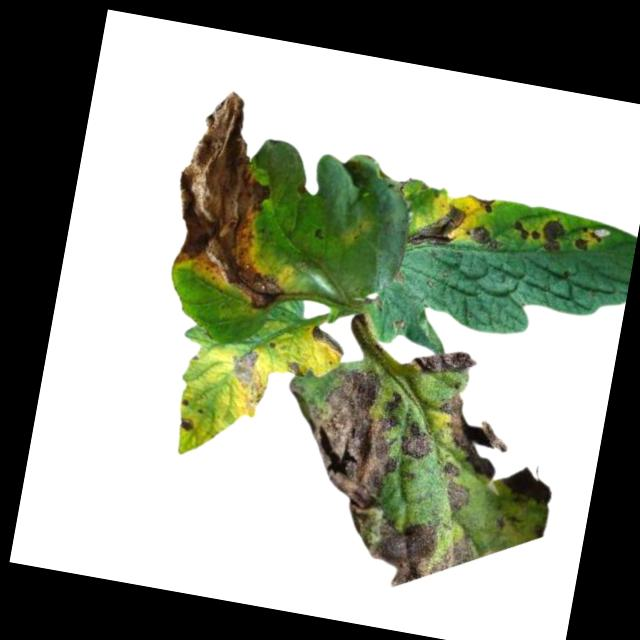Early_blight: (158, 83, 315, 314), (271, 352, 411, 506), (338, 501, 476, 599), (431, 390, 518, 479), (408, 198, 469, 254), (223, 342, 275, 405), (409, 342, 480, 383), (502, 457, 561, 503), (398, 412, 436, 460), (442, 475, 485, 517), (308, 324, 349, 357), (540, 214, 570, 253), (575, 221, 610, 254), (471, 222, 504, 251), (513, 217, 545, 242), (466, 193, 498, 214), (285, 358, 306, 378), (178, 414, 198, 433)
